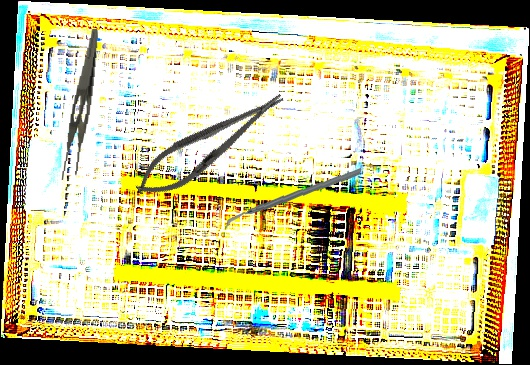Chopper: (225, 161, 361, 237)
Dressing Forceps: (58, 26, 100, 183)
Needle Holder: (127, 79, 294, 210)
